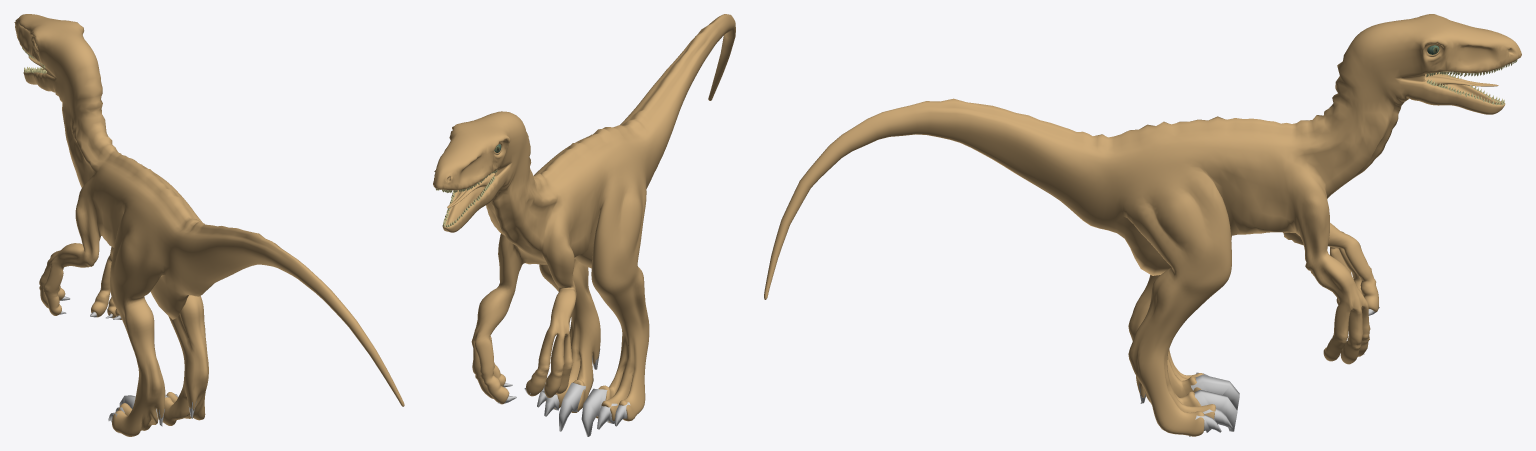
Rendered from dromaeosaur.obj.
3 renders of one model, left to right at view 1: azimuth 30°, elevation 25°; view 2: azimuth 150°, elevation 25°; view 3: azimuth 270°, elevation 25°, orthographic. The views are drawn at different scales.
Parts seen in each view (by area): view 1: Dromaeosaur_Cube, Claws_Cube.002; view 2: Dromaeosaur_Cube, Claws_Cube.002, Teeth_Cube.001; view 3: Dromaeosaur_Cube, Claws_Cube.002.
Boxes of the visible parts, x1,y1,x2,y2 form: Dromaeosaur_Cube: (14,14,404,436); Claws_Cube.002: (59,296,196,433); Dromaeosaur_Cube: (433,14,735,422); Claws_Cube.002: (497,349,634,436); Teeth_Cube.001: (435,169,497,227); Dromaeosaur_Cube: (764,14,1521,436); Claws_Cube.002: (1139,307,1379,436).
Bounding box in the file's own units: 1.86 × 4.98 × 8.49.
